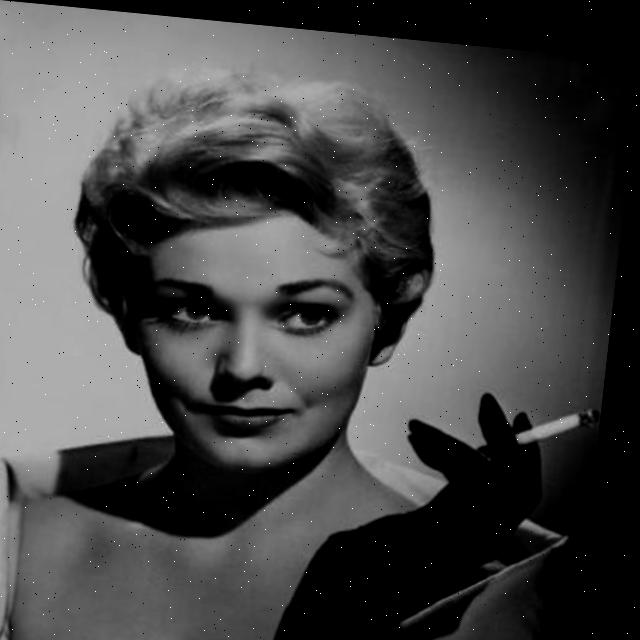cigarette: (521, 390, 608, 439)
